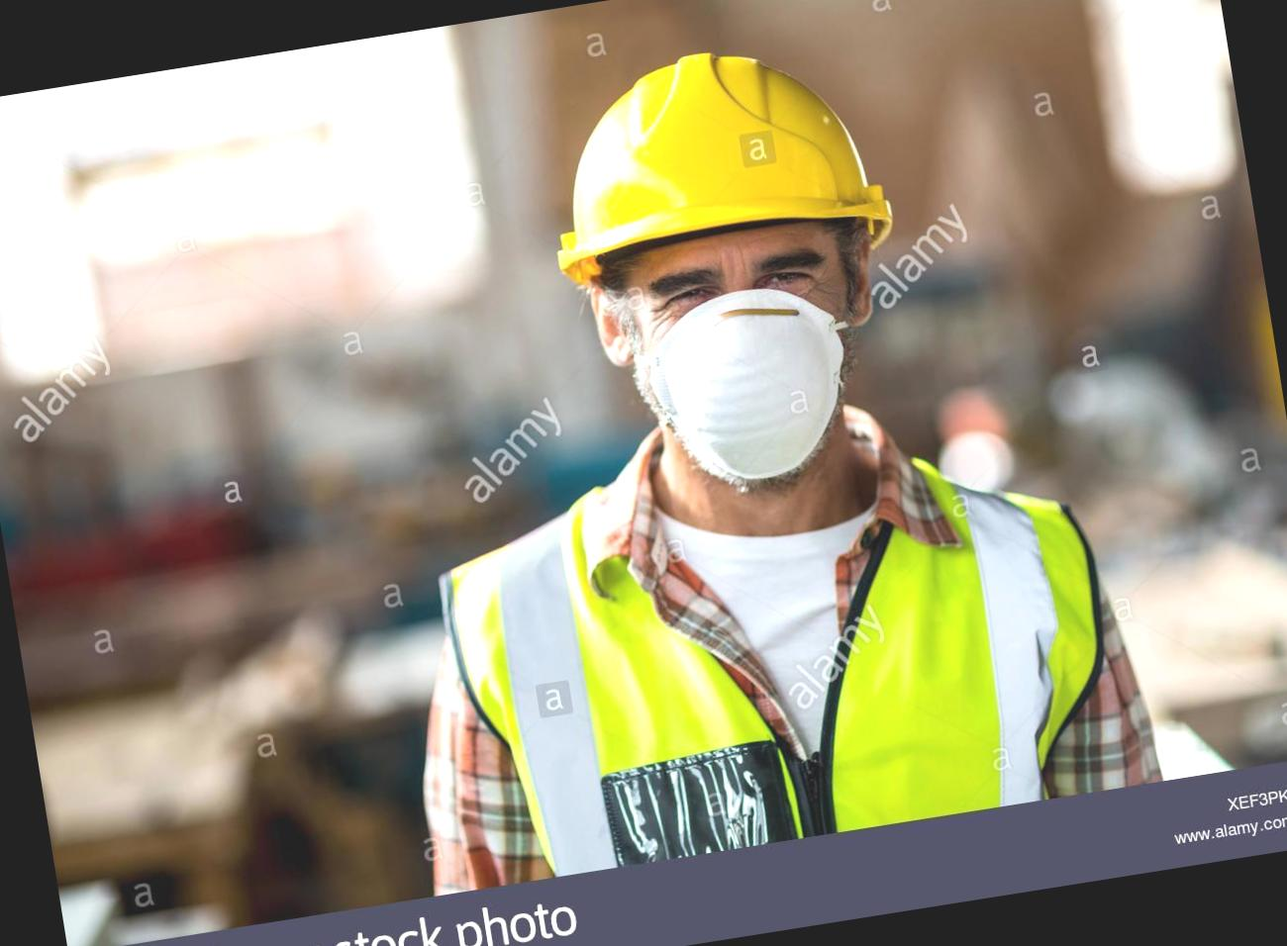helmet: (520, 20, 907, 308)
person: (303, 0, 1176, 900)
